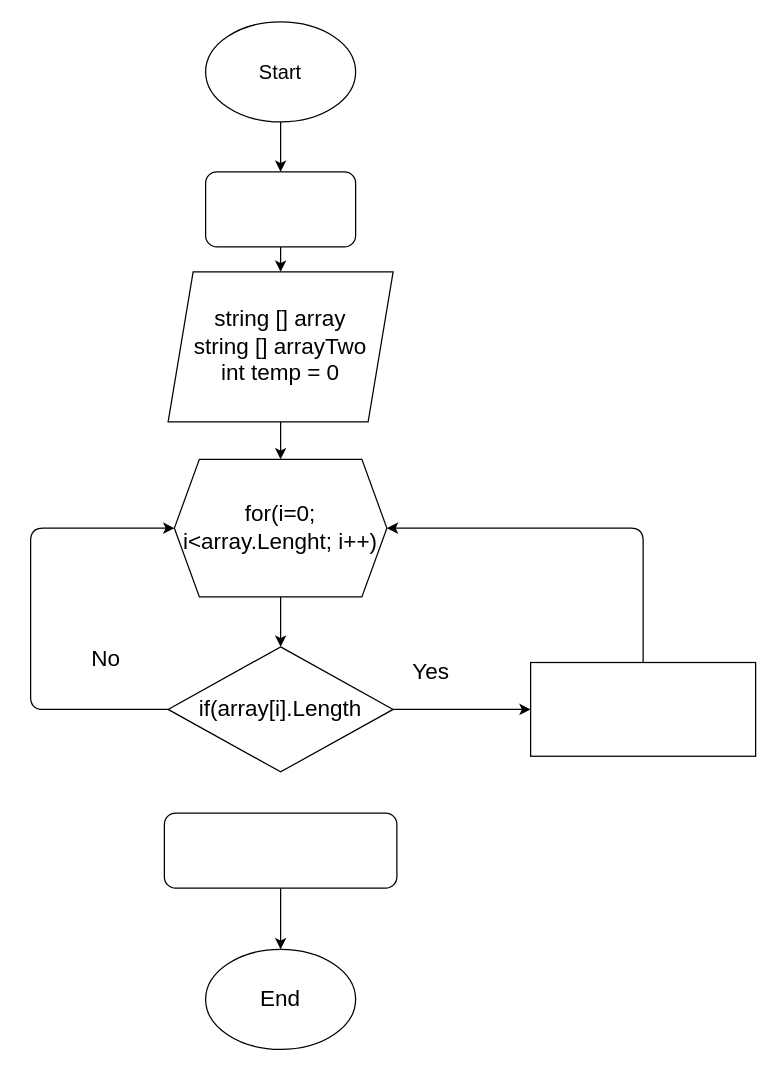
This 778x1071 diagram has some shape labels left out. Here are the shapes that lost their labels. From the top down, the box of each, then its label:
(204, 171, 356, 247): mainFunction
(529, 661, 756, 756): arrayTwo[temp] = array[i] temp++
(163, 812, 397, 888): printArray(arrayTwo)
